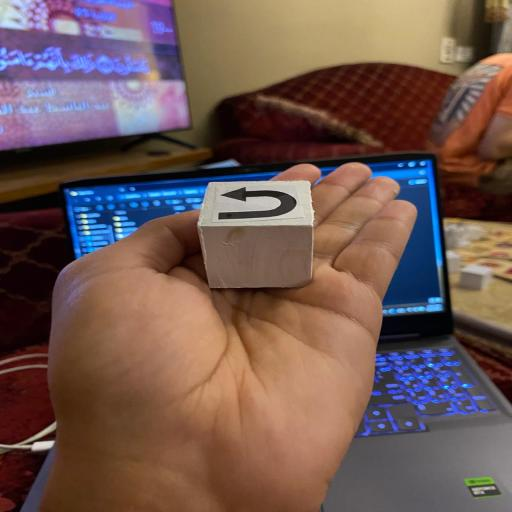Undo: (194, 178, 320, 291)
